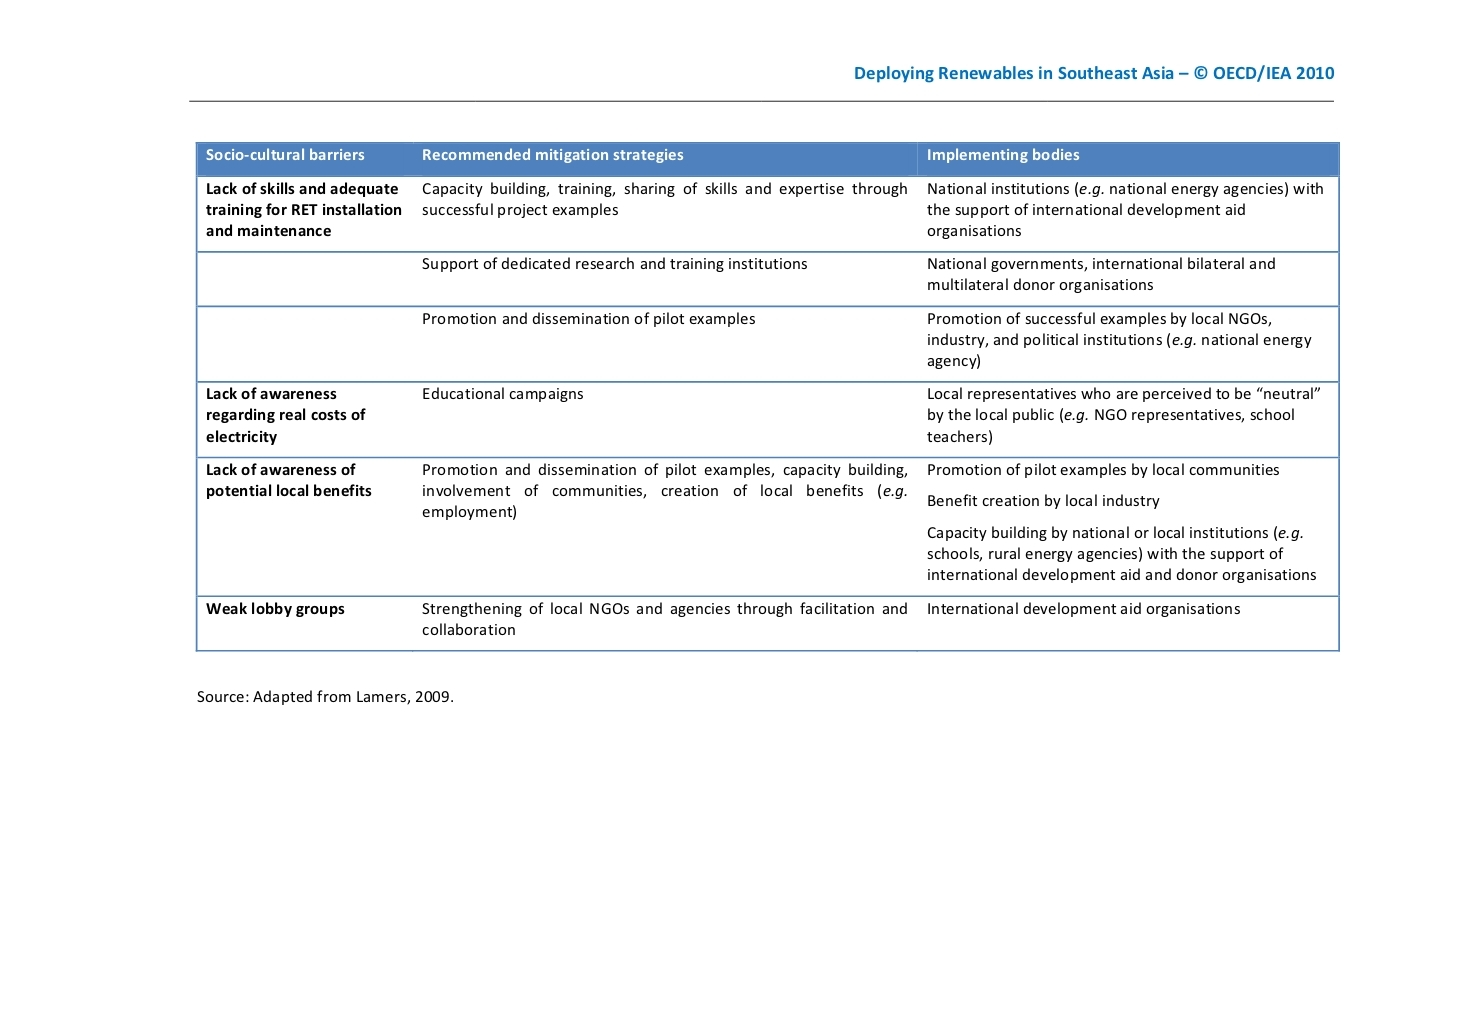Table: (195, 141, 1340, 652)
